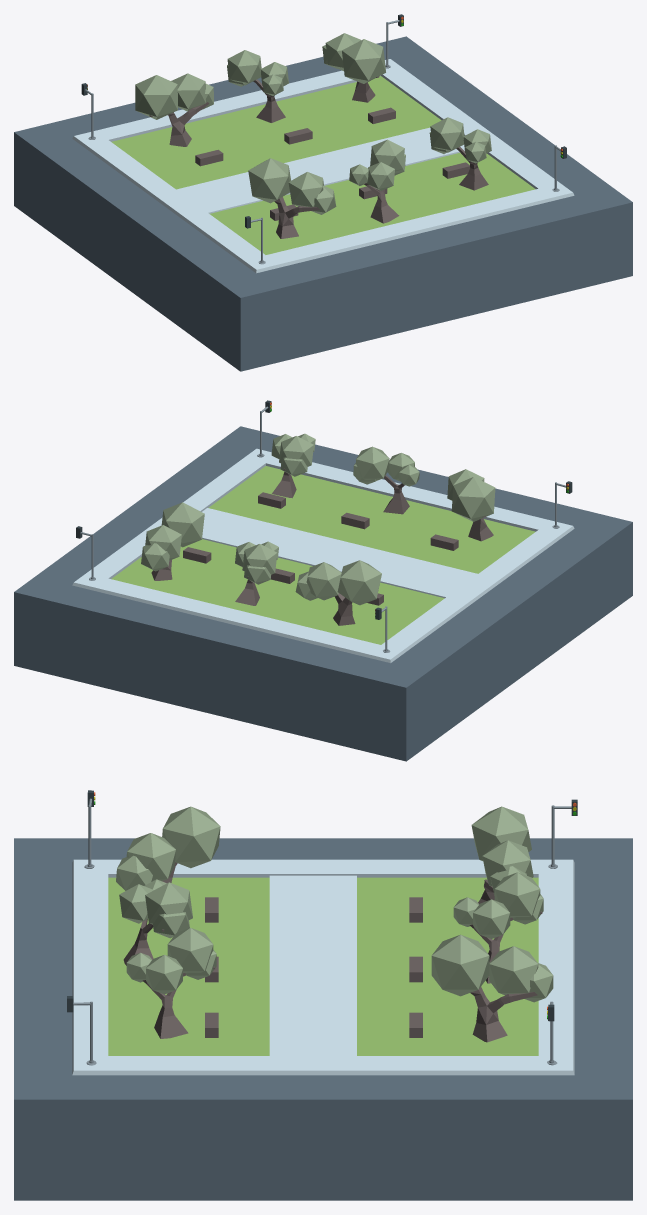
Rendered from Taman.glb.
3 views of the same model, one above another, from view 1: azimuth 30°, elevation 25°; view 2: azimuth 150°, elevation 25°; view 3: azimuth 270°, elevation 25° (orthographic). The views are drawn at different scales.
Visible parts, largest first — view 1: Cube.001, Cube, Plane.002, Plane.001, Plane, Cube.003, Cube.002, Cube.004; view 2: Cube.001, Cube, Plane.001, Plane, Cube.003, Plane.002, Cube.002, Cube.004; view 3: Cube.001, Cube, Plane, Plane.002, Cube.004, Cube.002, Plane.001, Cube.003.
Boxes of the visible parts, box(x1,y1,x2,y2) form: Cube.001: box(14, 36, 632, 371); Cube: box(176, 127, 464, 213); Plane.002: box(248, 158, 336, 238); Plane.001: box(135, 73, 213, 146); Plane: box(322, 33, 385, 102); Cube.003: box(349, 139, 405, 223); Cube.002: box(227, 50, 288, 122); Cube.004: box(429, 117, 491, 190); Cube.001: box(14, 426, 632, 761); Cube: box(202, 508, 477, 598); Plane.001: box(295, 560, 381, 625); Plane: box(141, 502, 204, 580); Cube.003: box(353, 446, 419, 514); Plane.002: box(447, 469, 495, 541); Cube.002: box(235, 541, 278, 605); Cube.004: box(271, 433, 315, 498); Cube.001: box(14, 838, 632, 1200); Cube: box(269, 875, 356, 1055); Plane: box(431, 934, 553, 1042); Plane.002: box(116, 806, 220, 890); Cube.004: box(126, 928, 216, 1038); Cube.002: box(453, 872, 543, 983); Plane.001: box(471, 806, 533, 904); Cube.003: box(119, 879, 192, 965).
Bounding box in the file's own units: 17.05 × 5.94 × 17.05.
